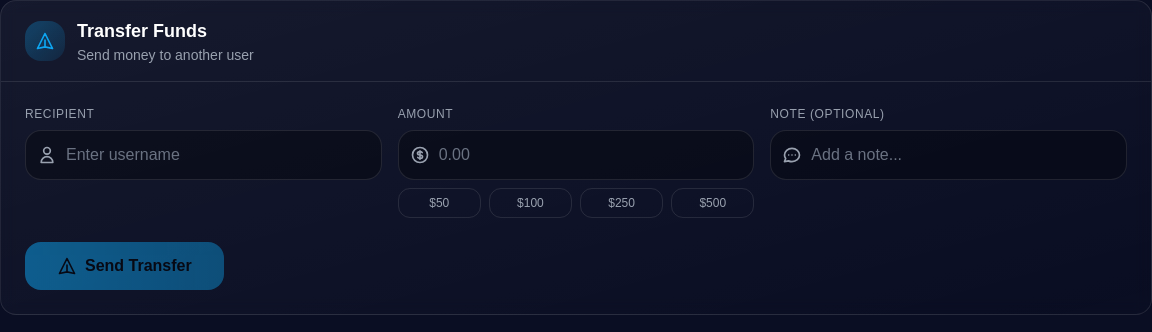
Test case: TransferFunds › sets amount when quick preset button is clicked
What coordinates should you click on to do the following:
click the button "$100"
I would click on:
 (530, 203)
Its box is x1=489 y1=188 x2=572 y2=218.
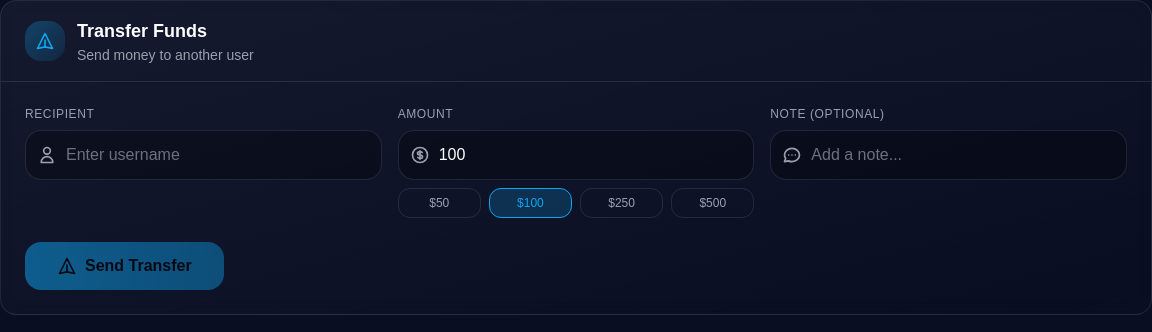
Expected: the number field with placeholder "0.00" holds "100", x1=398 y1=130 x2=754 y2=180
